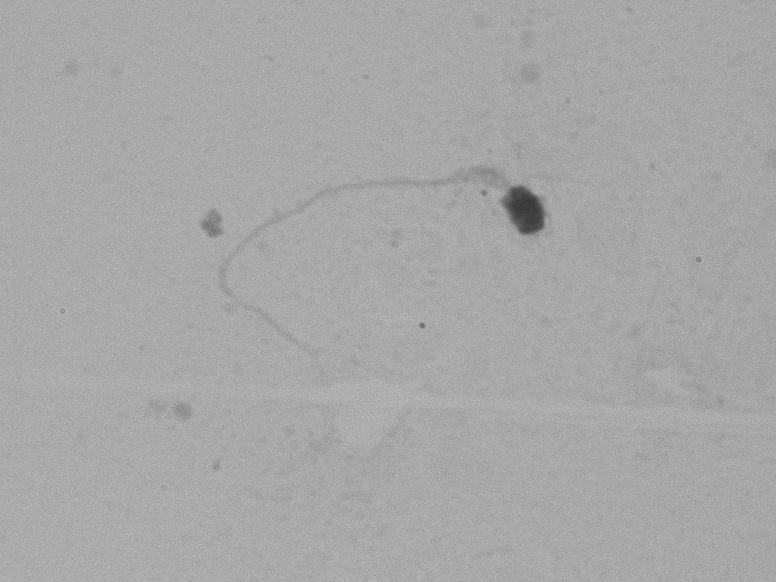Abnormal: (196, 120, 585, 396)
